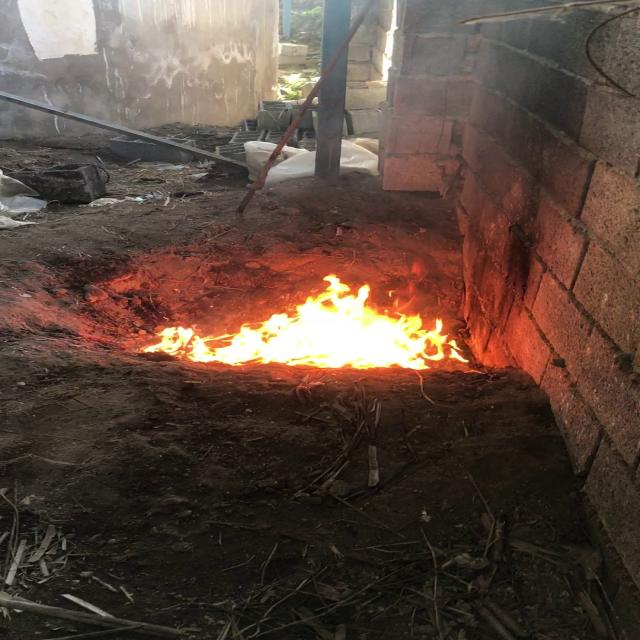fire: (115, 270, 466, 387)
